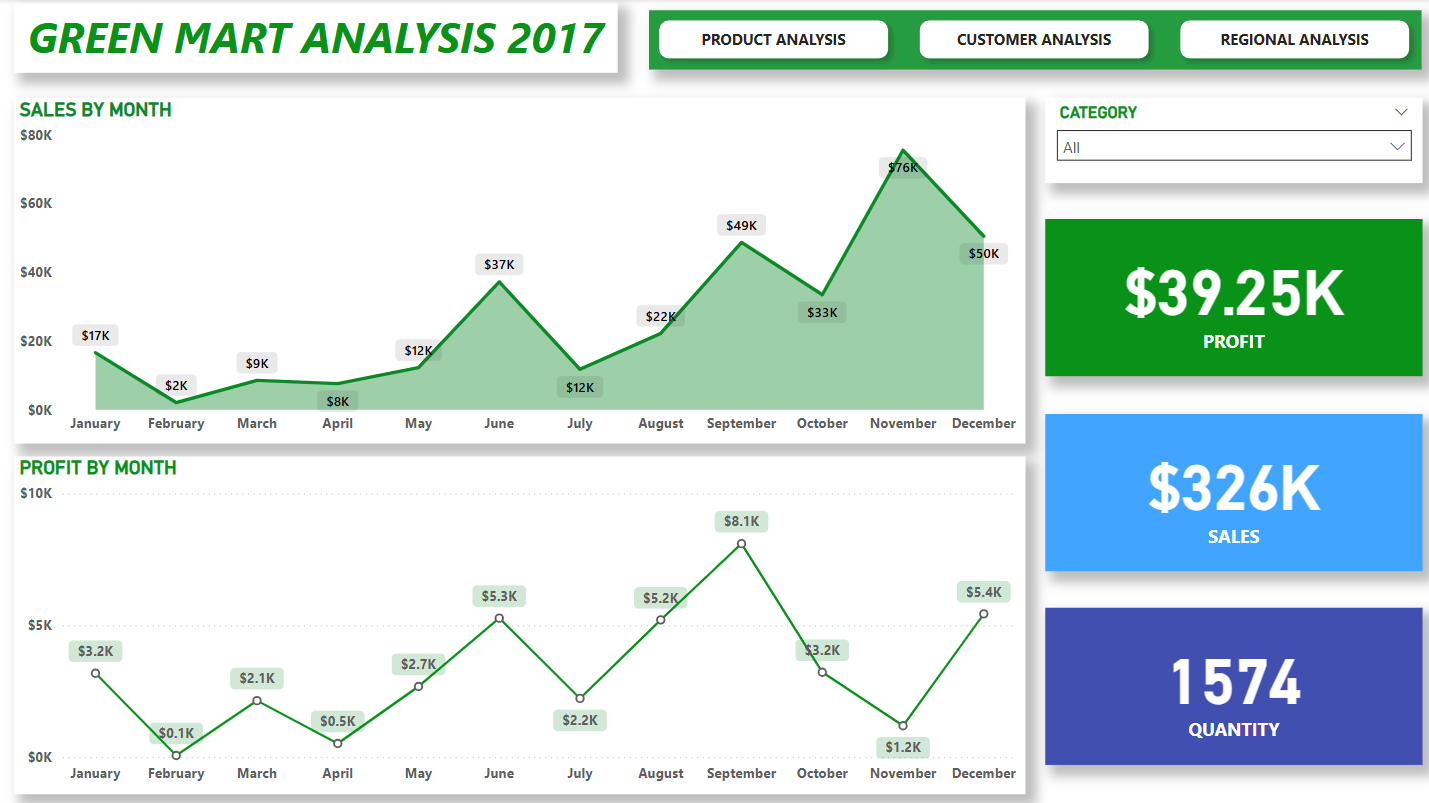

The dashboard page shown, as its layout file describes it:
{"tool":"powerbi","page":{"name":"TREND ANALYSIS","canvas":[1280,720],"ordinal":0},"visuals":[{"type":"lineChart","title":"SALES BY MONTH ","fields":{"Category":["dataset.Date.Variation.Date Hierarchy.Month"],"Y":["Sum(dataset.Sales)"]},"box":[13.5,88.3,900.6,308],"z":0},{"type":"areaChart","title":"PROFIT BY MONTH","fields":{"Category":["dataset.Date.Variation.Date Hierarchy.Month"],"Y":["Sum(dataset.Profit)"]},"box":[13.5,407.4,900.6,300.6],"z":1000},{"type":"card","fields":{"Values":["Sum(dataset.Sales)"]},"box":[931.3,369.3,336.2,139.9],"z":2000},{"type":"pageNavigator","box":[579.1,9.8,688.3,52.8],"z":3000},{"type":"slicer","fields":{"Values":["dataset.Category"]},"box":[931.3,88.3,336.2,76.1],"z":4000},{"type":"card","fields":{"Values":["Sum(dataset.Profit)"]},"box":[931.3,196.3,336.2,139.9],"z":6000},{"type":"card","fields":{"Values":["CountNonNull(dataset.Quantity)"]},"box":[931.3,542.3,336.2,139.9],"z":7000},{"type":"textbox","box":[13.5,3.7,537.4,62.6],"z":8000}]}

Visuals, with their boxes in screenshot pixels (x1, y1, x2, y2), scaled from the page's 1280x720 canvas onto the 1429x803 screenshot:
"SALES BY MONTH " lineChart: bbox=(15, 98, 1021, 442)
"PROFIT BY MONTH" areaChart: bbox=(15, 454, 1021, 790)
card - Sum(dataset.Sales): bbox=(1040, 412, 1415, 568)
pageNavigator: bbox=(647, 11, 1415, 70)
slicer - dataset.Category: bbox=(1040, 98, 1415, 183)
card - Sum(dataset.Profit): bbox=(1040, 219, 1415, 375)
card - CountNonNull(dataset.Quantity): bbox=(1040, 605, 1415, 761)
textbox: bbox=(15, 4, 615, 74)
